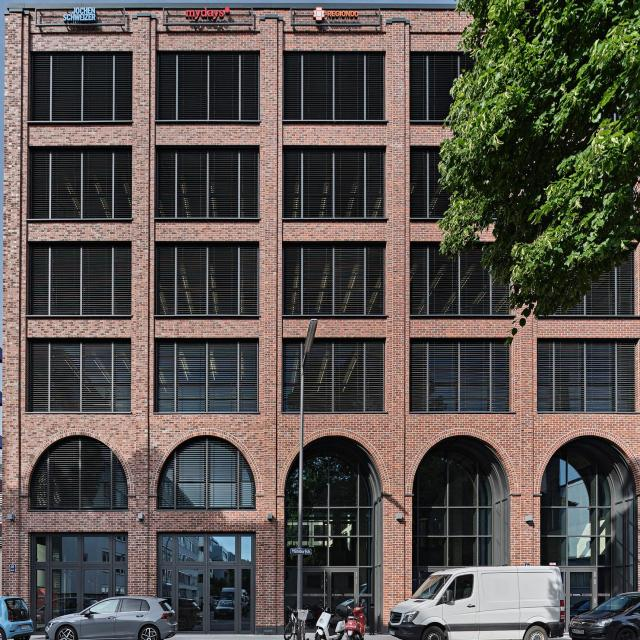door: (171, 563, 243, 640), (45, 562, 115, 630), (301, 567, 361, 625), (564, 568, 599, 630)
window: (155, 434, 256, 637), (284, 435, 382, 631), (31, 432, 125, 632), (538, 434, 638, 621), (413, 437, 507, 571), (282, 51, 387, 121), (282, 145, 387, 215), (28, 247, 133, 317), (156, 245, 261, 315), (283, 245, 388, 315), (33, 342, 138, 412), (161, 341, 266, 411), (279, 341, 384, 411), (28, 51, 132, 121), (156, 51, 260, 121), (28, 145, 132, 215), (156, 145, 260, 215), (539, 340, 636, 415), (410, 342, 510, 410), (414, 248, 510, 315), (410, 52, 476, 120), (571, 252, 635, 315)
